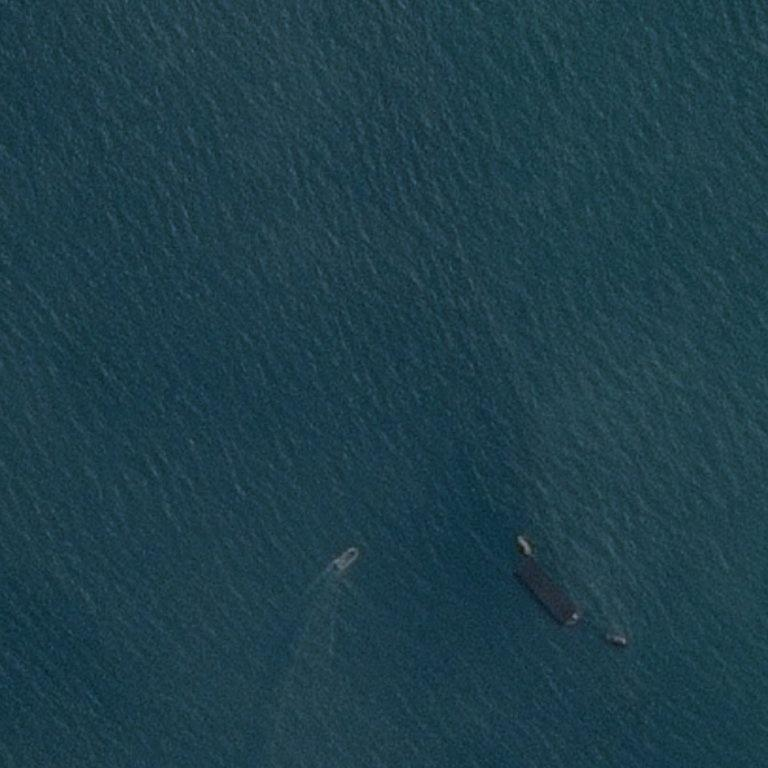ship: (507, 554, 584, 632), (294, 543, 327, 574), (514, 533, 537, 558), (601, 628, 629, 647)
